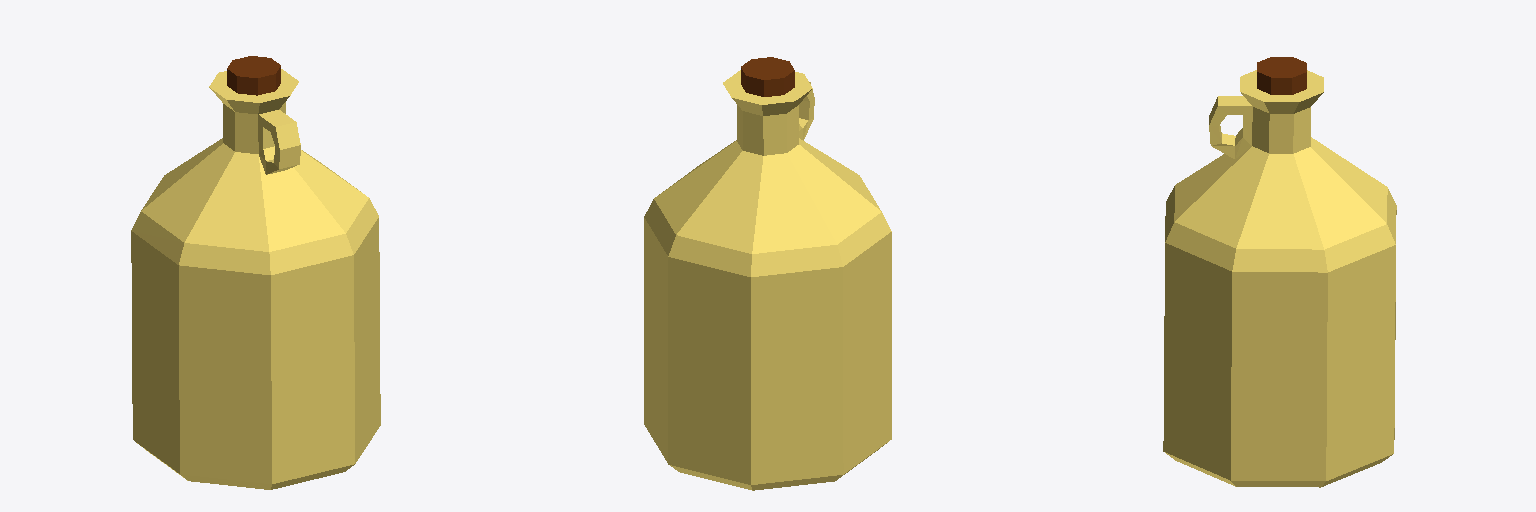
3 views of the same model, side by side, from view 1: azimuth 30°, elevation 25°; view 2: azimuth 150°, elevation 25°; view 3: azimuth 270°, elevation 25° (orthographic).
Visible parts, largest first — view 1: MoonshineJug_Cylinder; view 2: MoonshineJug_Cylinder; view 3: MoonshineJug_Cylinder.
Boxes of the visible parts, x1=… form: MoonshineJug_Cylinder: x1=131, y1=56, x2=380, y2=489; MoonshineJug_Cylinder: x1=644, y1=57, x2=891, y2=490; MoonshineJug_Cylinder: x1=1163, y1=57, x2=1396, y2=487.
Size of the model in its own units: 0.1027 by 0.1839 by 0.1031.
Materials: 1 (1 with a texture image).